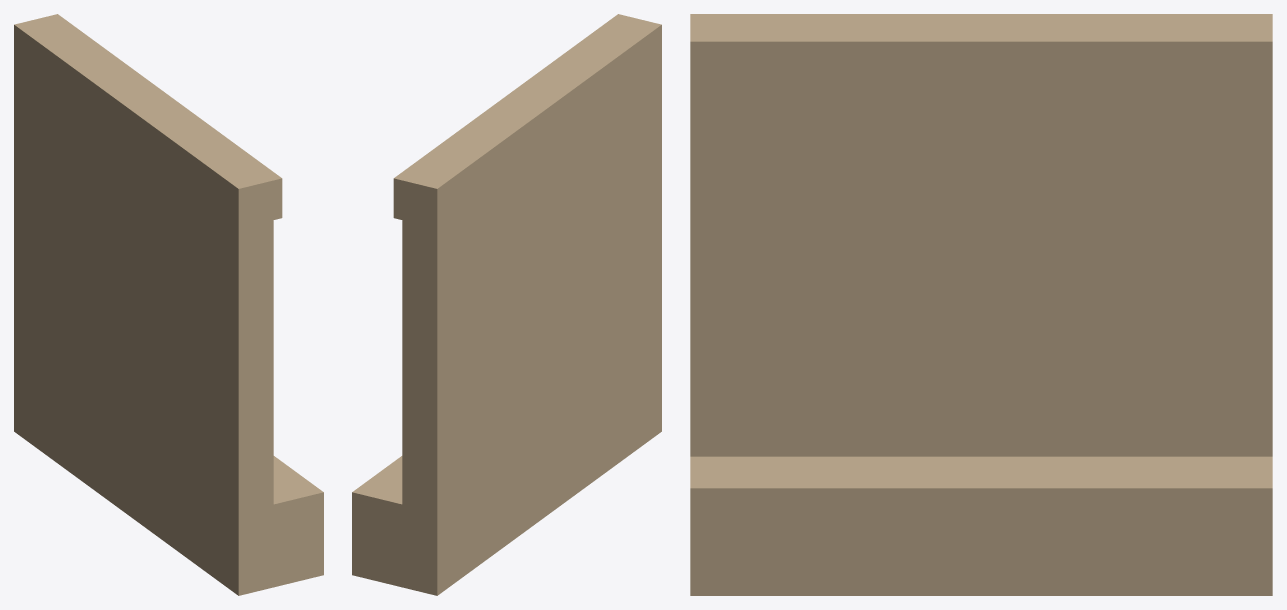
File: SM_blockade_01.fbx
3 views of the same model, side by side, from view 1: azimuth 30°, elevation 25°; view 2: azimuth 150°, elevation 25°; view 3: azimuth 270°, elevation 25° (orthographic). The views are drawn at different scales.
Parts seen in each view (by area): view 1: blockade_01; view 2: blockade_01; view 3: blockade_01.
Part boxes in pixels (x1,y1,x2,y2): blockade_01: [14, 14, 323, 595]; blockade_01: [352, 14, 661, 595]; blockade_01: [690, 14, 1272, 595].
Size of the model in its own units: 110 by 500 by 500.
